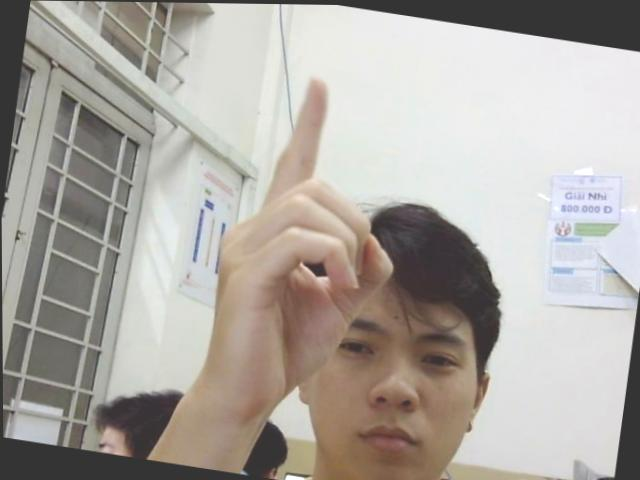D: (191, 60, 419, 430)
